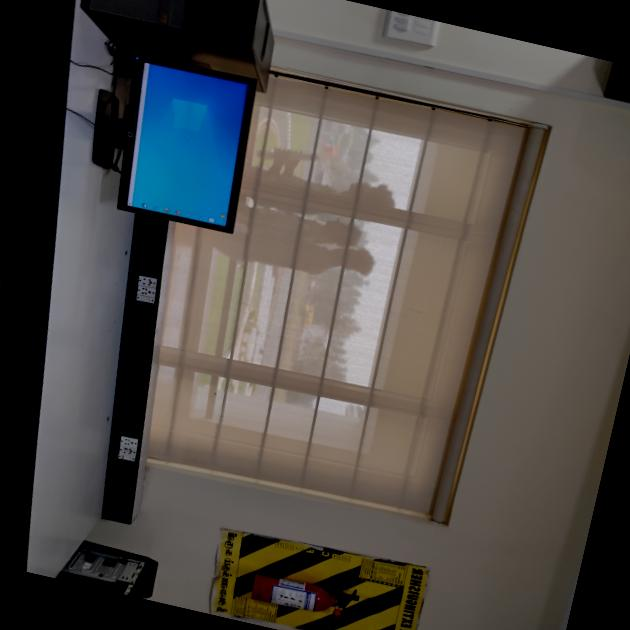computer: (51, 34, 275, 238)
cpu: (64, 0, 289, 70)
fireestinguisher: (176, 491, 461, 630)
windowscreen: (160, 44, 556, 532)
